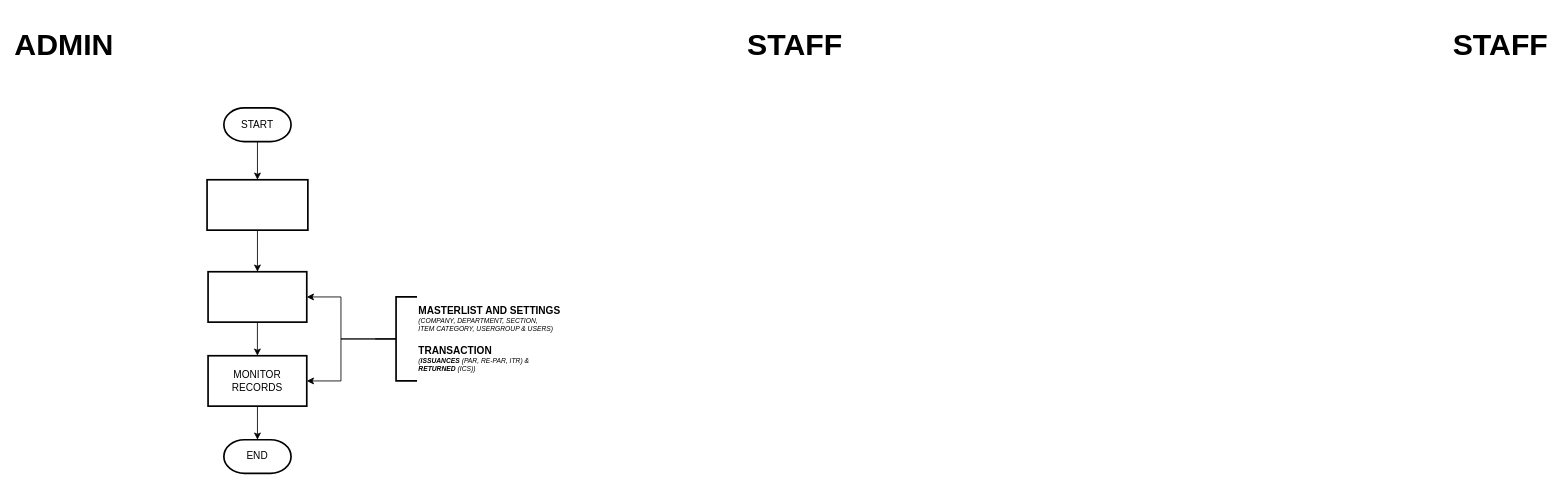
Some shapes in this 1562 by 489 pixel diagram are drawn without their labels. The centre of each missing label's shape, as x and y in pixels:
"LOGIN" belongs at point 257,204.
"MANAGE SETTINGS" belongs at point 257,296.
